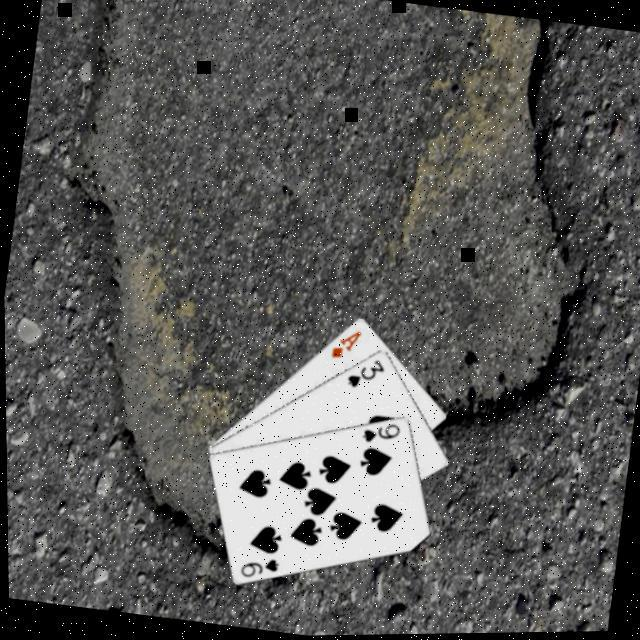3S: (344, 356, 389, 398)
9S: (236, 553, 282, 587), (359, 419, 404, 453)
AD: (327, 328, 366, 367)
